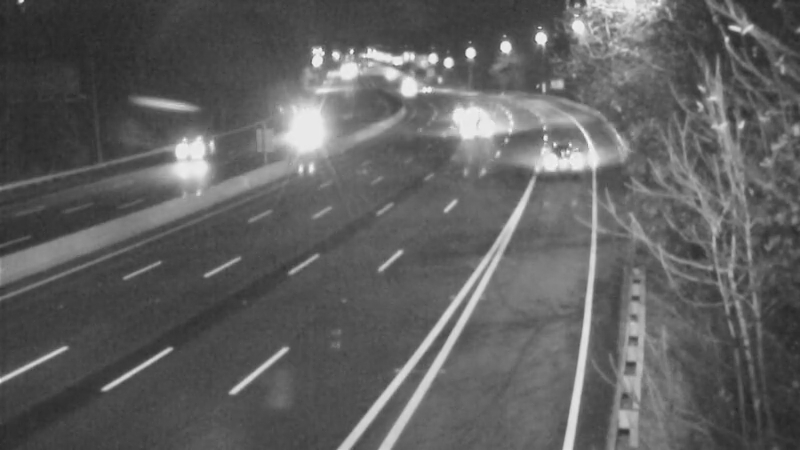vehicle: (515, 116, 595, 196), (150, 110, 230, 190), (398, 62, 448, 112), (382, 66, 432, 116), (434, 85, 484, 135), (460, 99, 510, 149), (277, 107, 327, 157)
